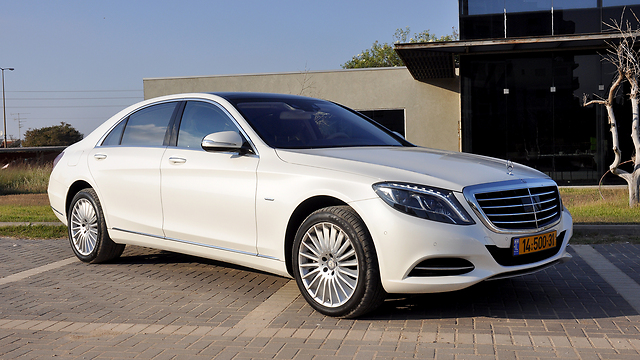licence: (511, 230, 558, 255)
